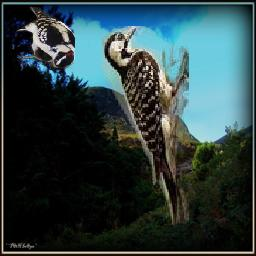Woodpecker: (103, 27, 190, 226), (17, 8, 76, 71)
